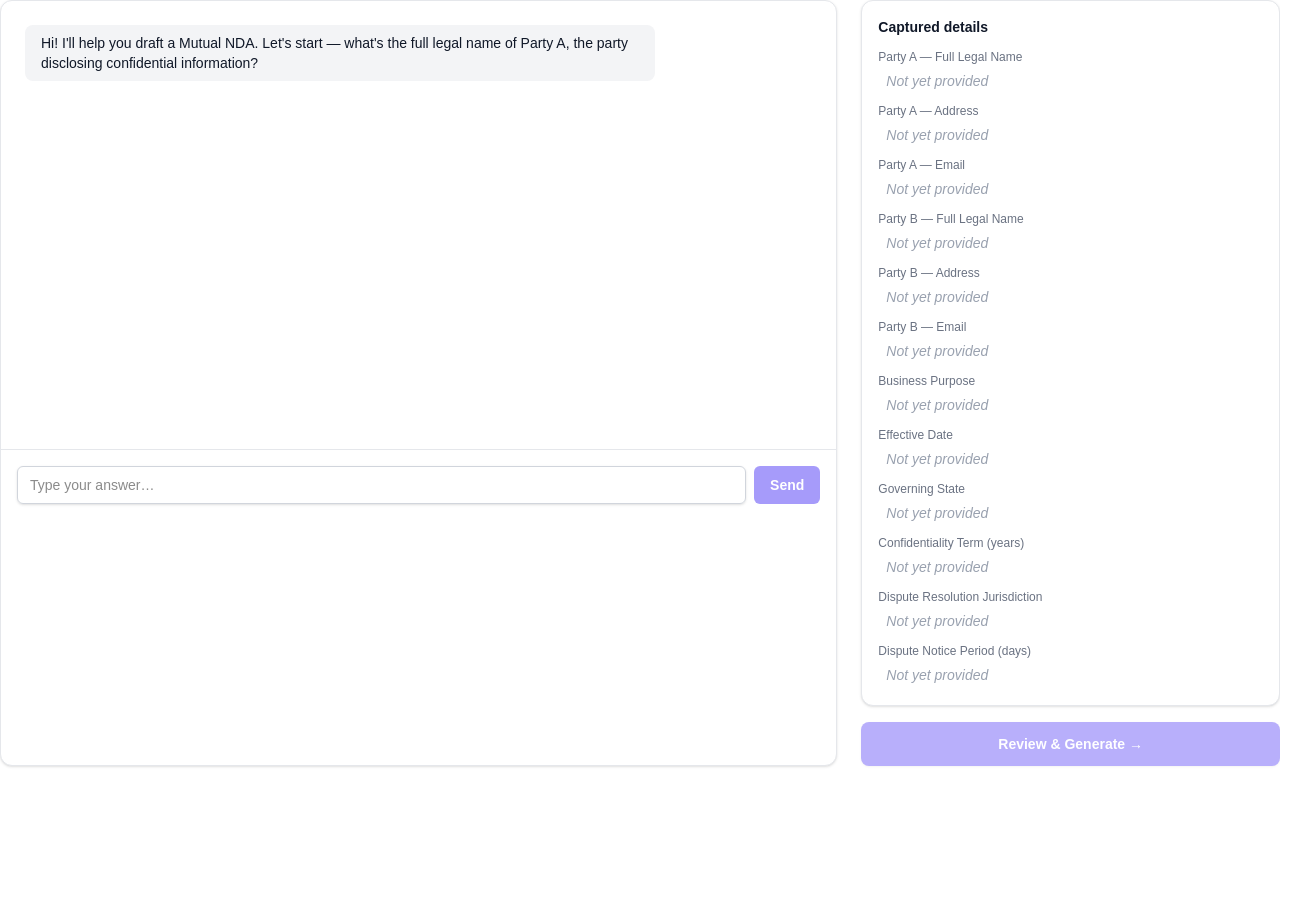
it: NdaChat › shows an error message when the request fails
Type "hi" into the field named "Message". click: (382, 485)
box: top-left (17, 466), bottom-right (746, 504)
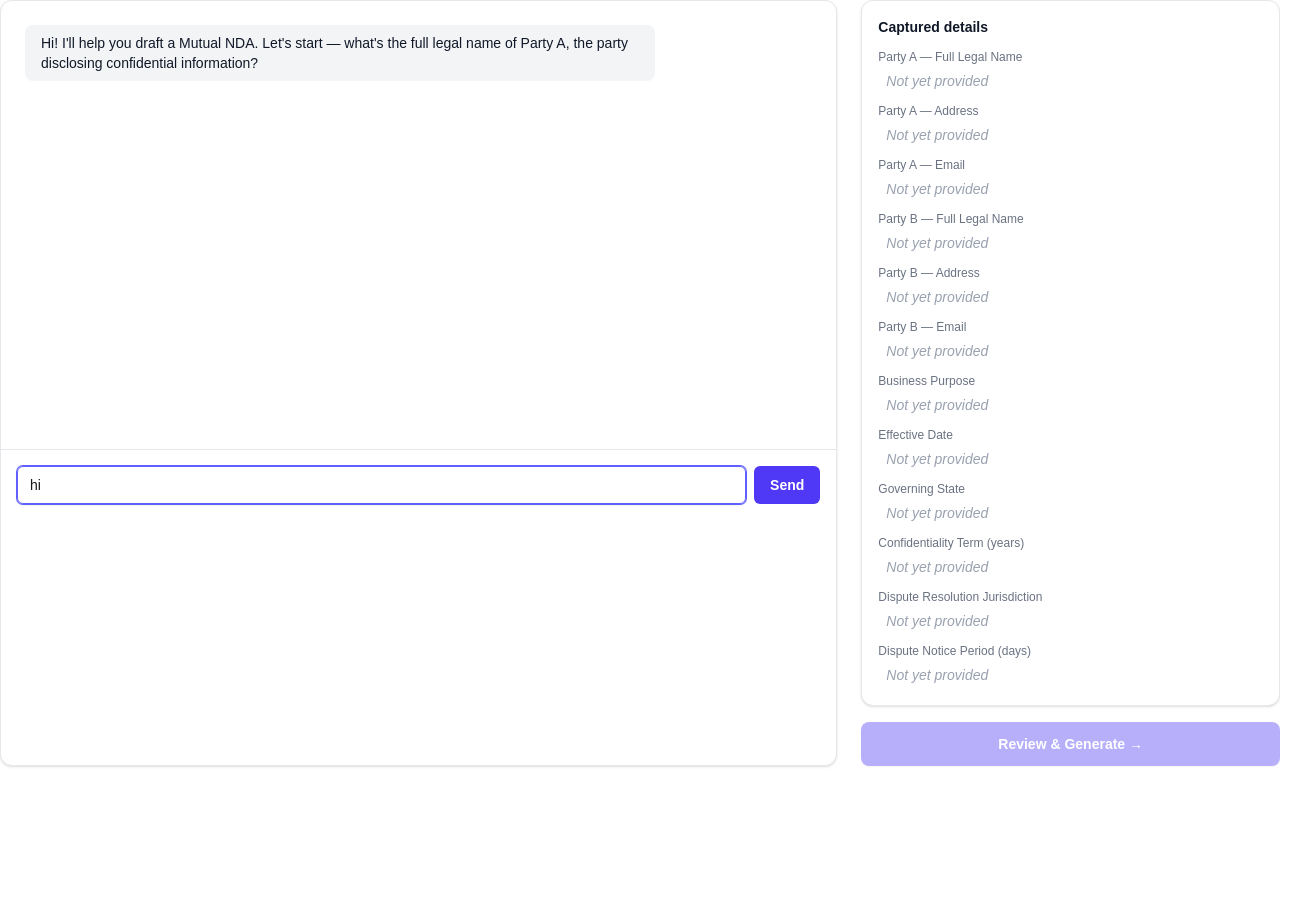
Click the button "Send". click: (787, 485)
box: top-left (754, 466), bottom-right (820, 504)
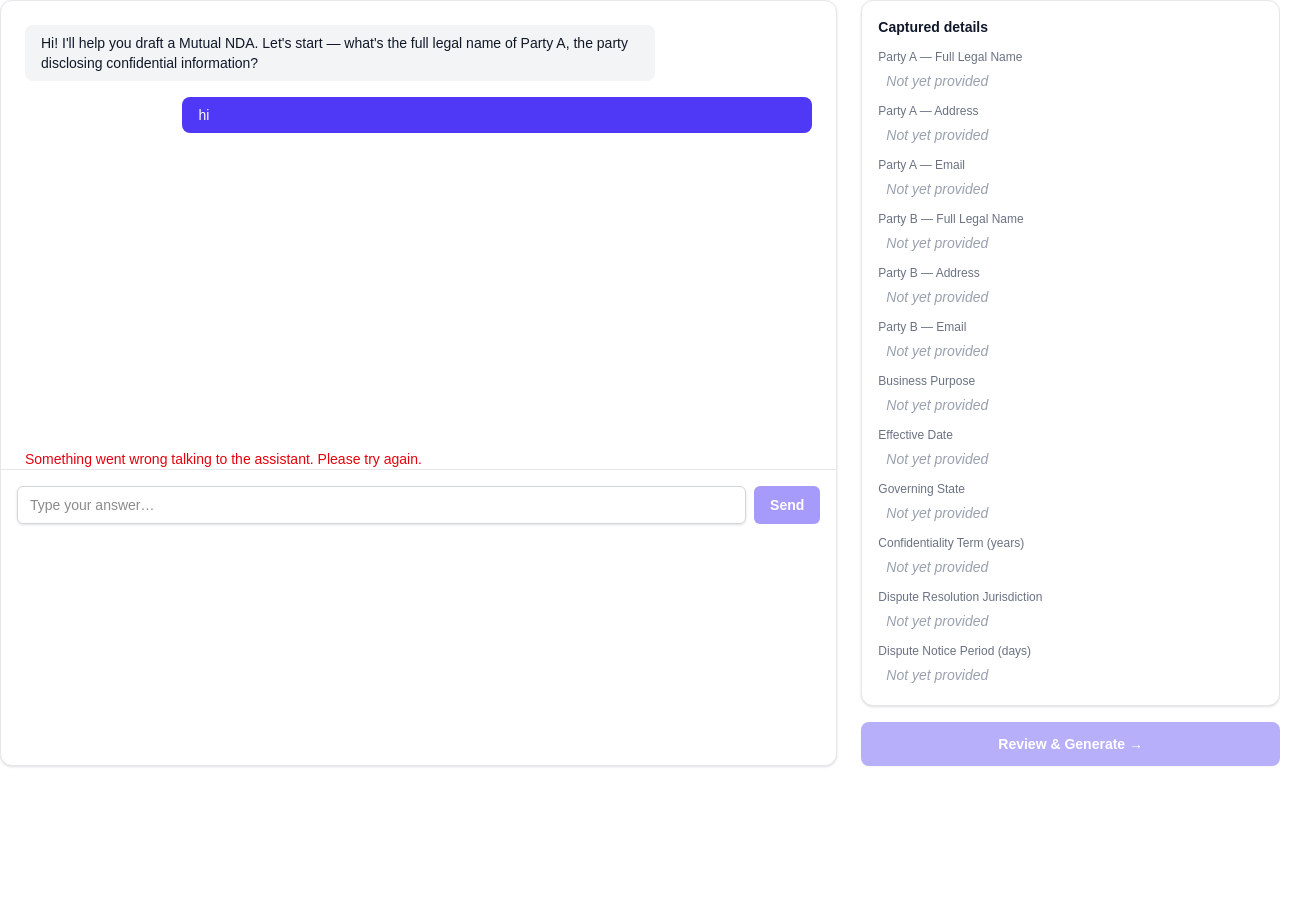
Check: the message "Something went wrong talking to the assistant. Please try again." is shown, box top-left (25, 451), bottom-right (422, 467)
